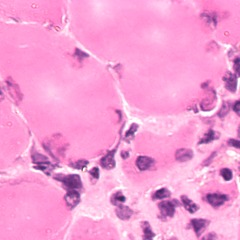New: (118, 127, 177, 183), (65, 215, 123, 240)
